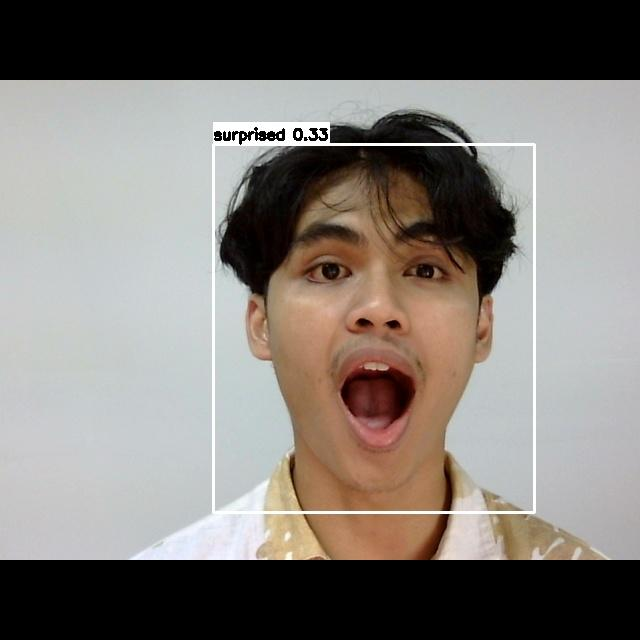Surprised: (261, 221, 494, 454)
